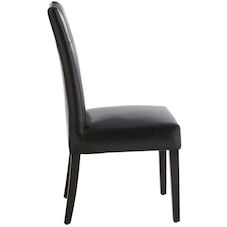chair: (31, 0, 191, 225)
